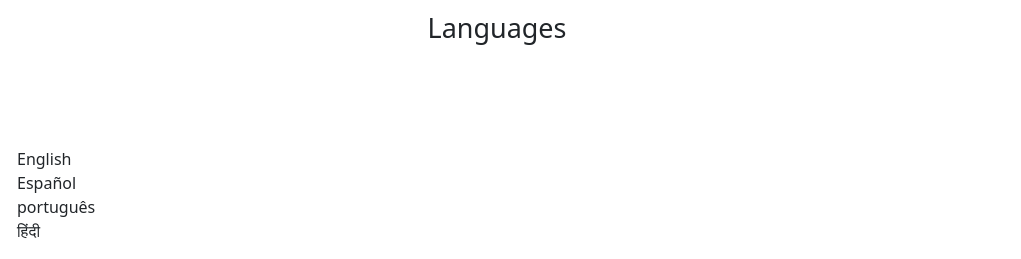
To check if when user clicks one language, the heading gets translated
Step 1. Click the button "Español" → (47, 183), box x1=17 y1=171 x2=1009 y2=195
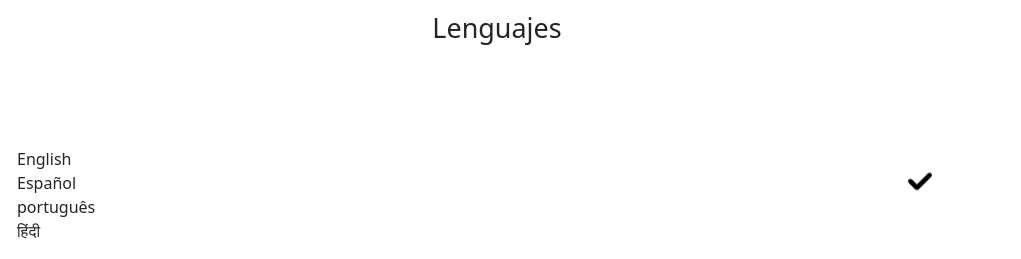
Now the picture named "Español" is shown, box x1=908 y1=170 x2=932 y2=194
Step 2. Click the button "português" → (56, 207), box x1=17 y1=195 x2=1009 y2=219
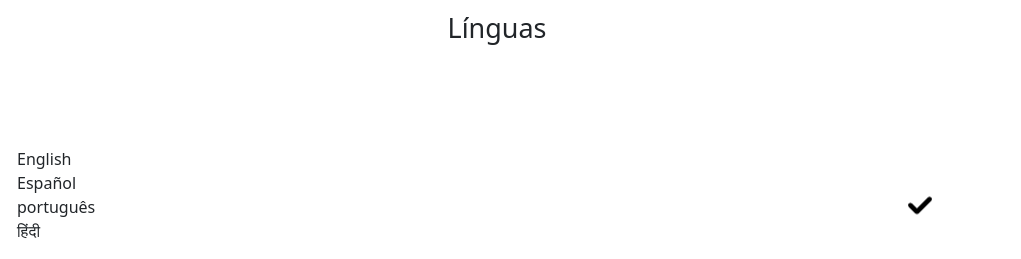
Now the picture named "português" is shown, box x1=908 y1=194 x2=932 y2=218
Step 3. Click the button "हिंदी" → (29, 231), box x1=17 y1=219 x2=1009 y2=243
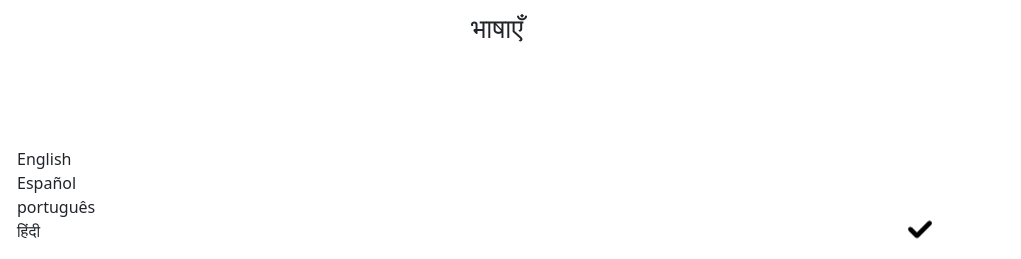
Now the picture named "हिंदी" is shown, box x1=908 y1=218 x2=932 y2=242
